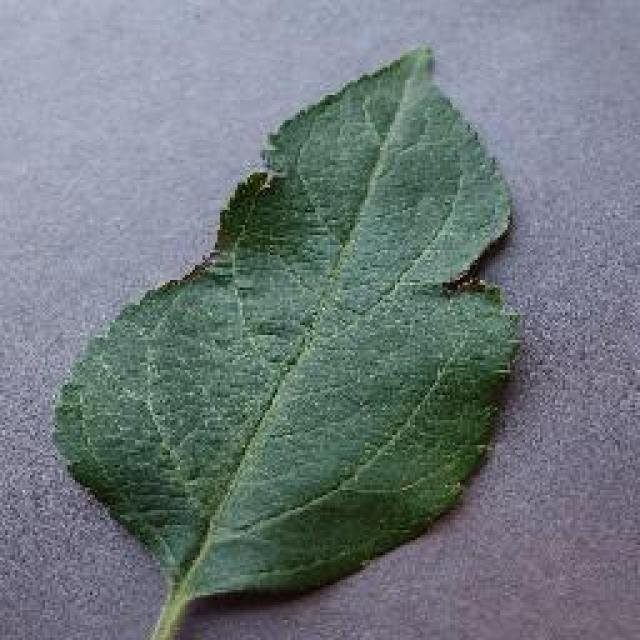apple scab disease: (47, 40, 525, 638)
